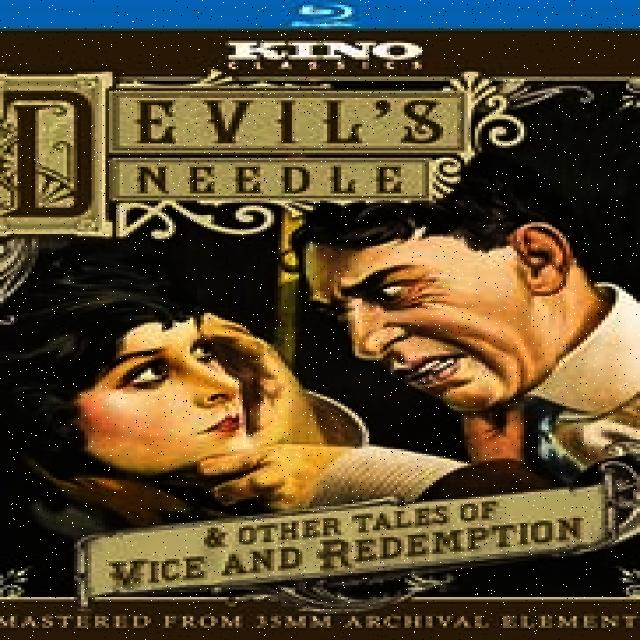movie-judul: (1, 74, 480, 238)
picture: (11, 234, 634, 518)
